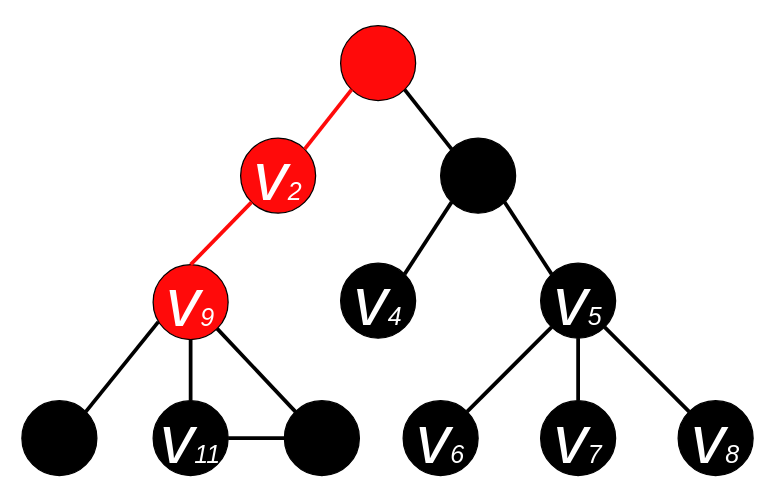
This 775x501 diagram has some shape labels left out. Each missing label, with the centre of its shape:
"v 1" belongs at (377,62).
"v 10" belongs at (59,437).
"v 12" belongs at (321,437).
"v 3" belongs at (477,175).
